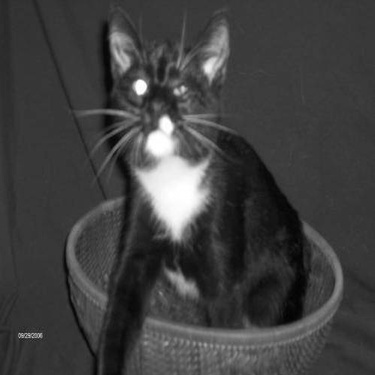cat: (51, 7, 351, 367)
